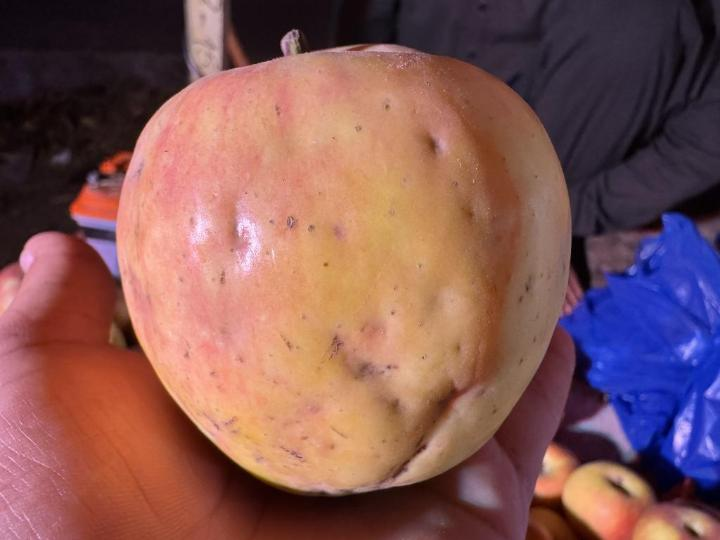apple: (117, 30, 571, 494)
surface_damage: (318, 335, 498, 488)
